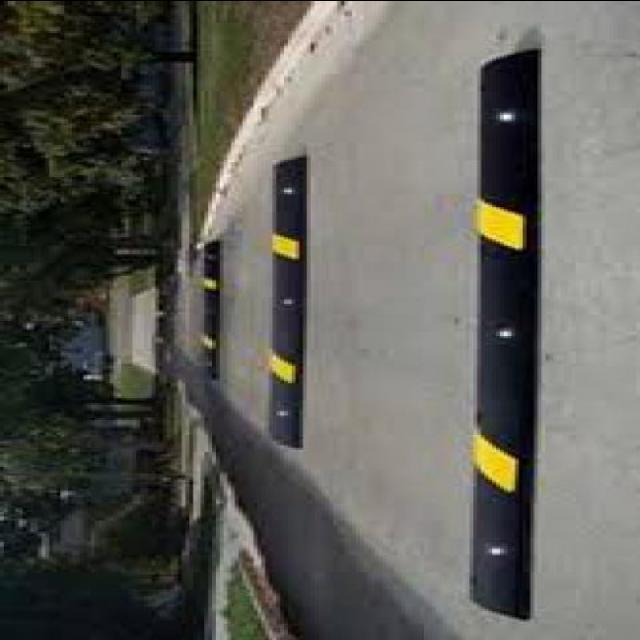speedbreaker: (464, 38, 548, 622), (266, 147, 314, 447), (196, 230, 224, 384)
